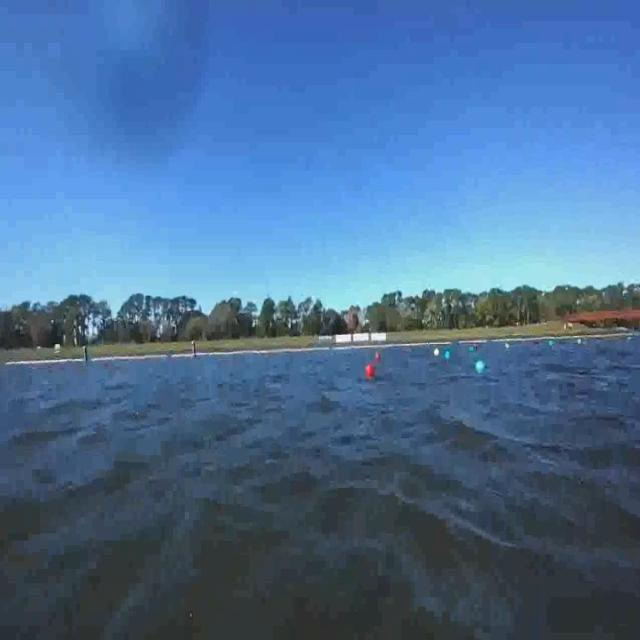green-buoy: (474, 354, 486, 376)
red-buoy: (365, 363, 374, 378)
